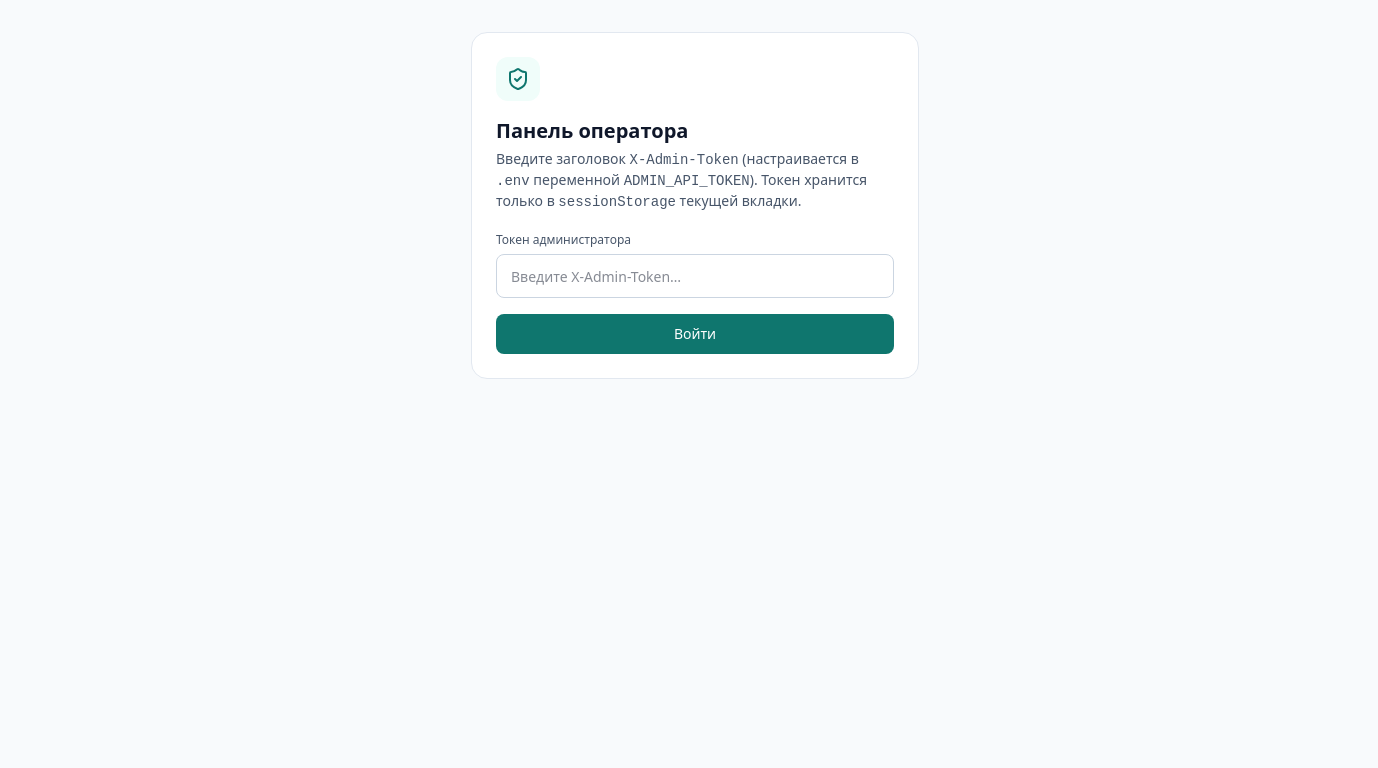
Scenario: AdminPage › loads stats and unmatched queue, resolves item, and handles 409 scrape lock
In the password field labelled "Токен администратора": (695, 276) [496,254,894,298], type "valid-token"
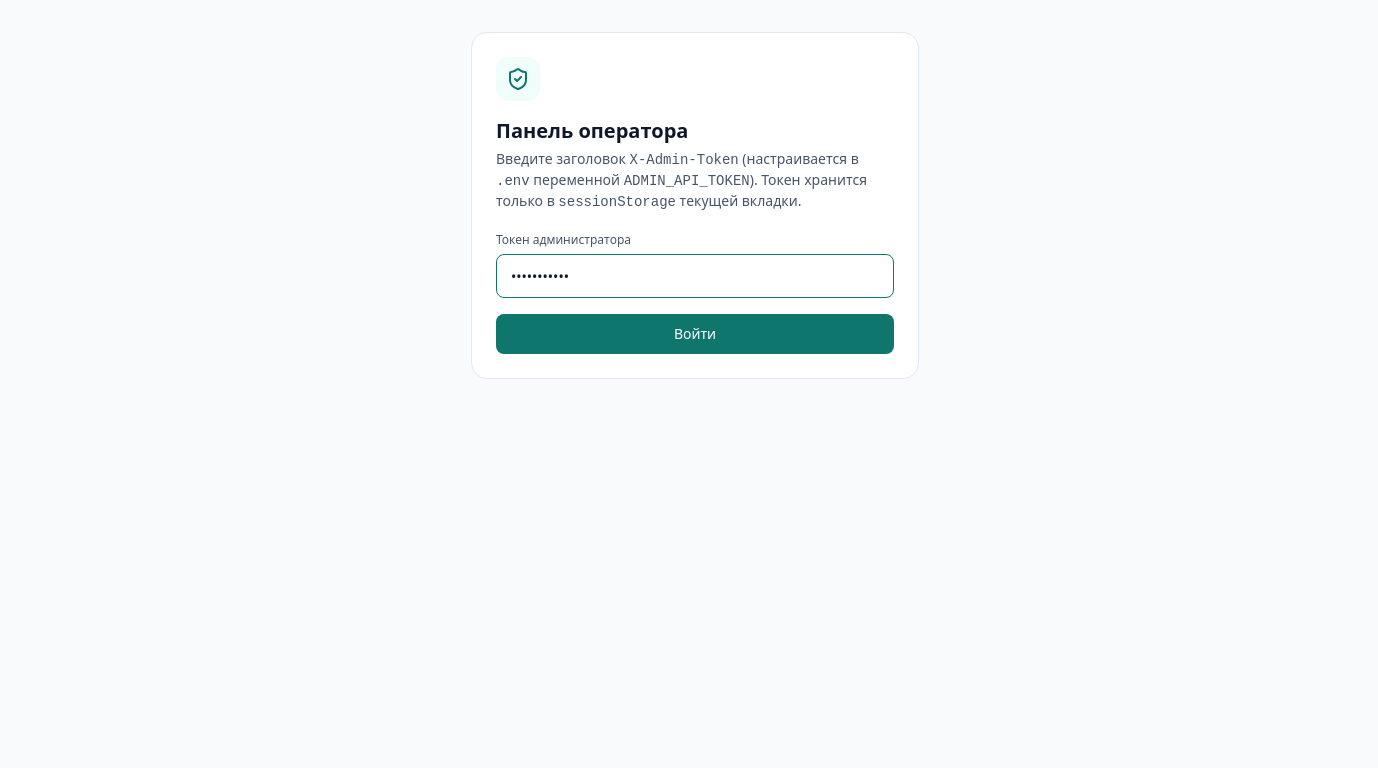
Click the button "Войти": (695, 334) [496,314,894,354]
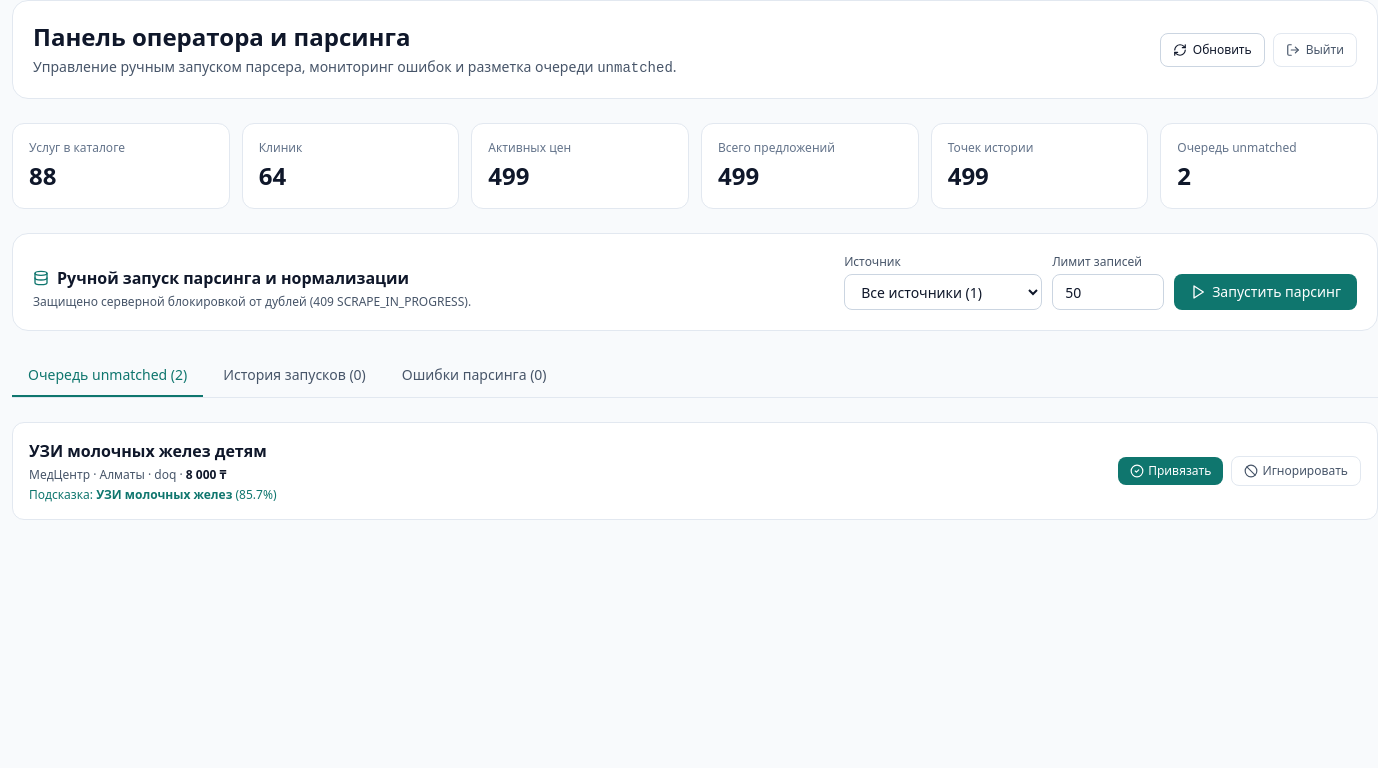
Check: the text "УЗИ молочных желез детям" is shown, box [29,439,276,463]
Check: the text "88" is shown, box [29,159,56,192]
Check: the text "499" is shown 3 times, box [488,159,530,192]; [718,159,759,192]; [948,159,989,192]
// 1-click resolve to suggested canonical service
Click the button "Привязать": (1171, 471) [1118,457,1223,485]
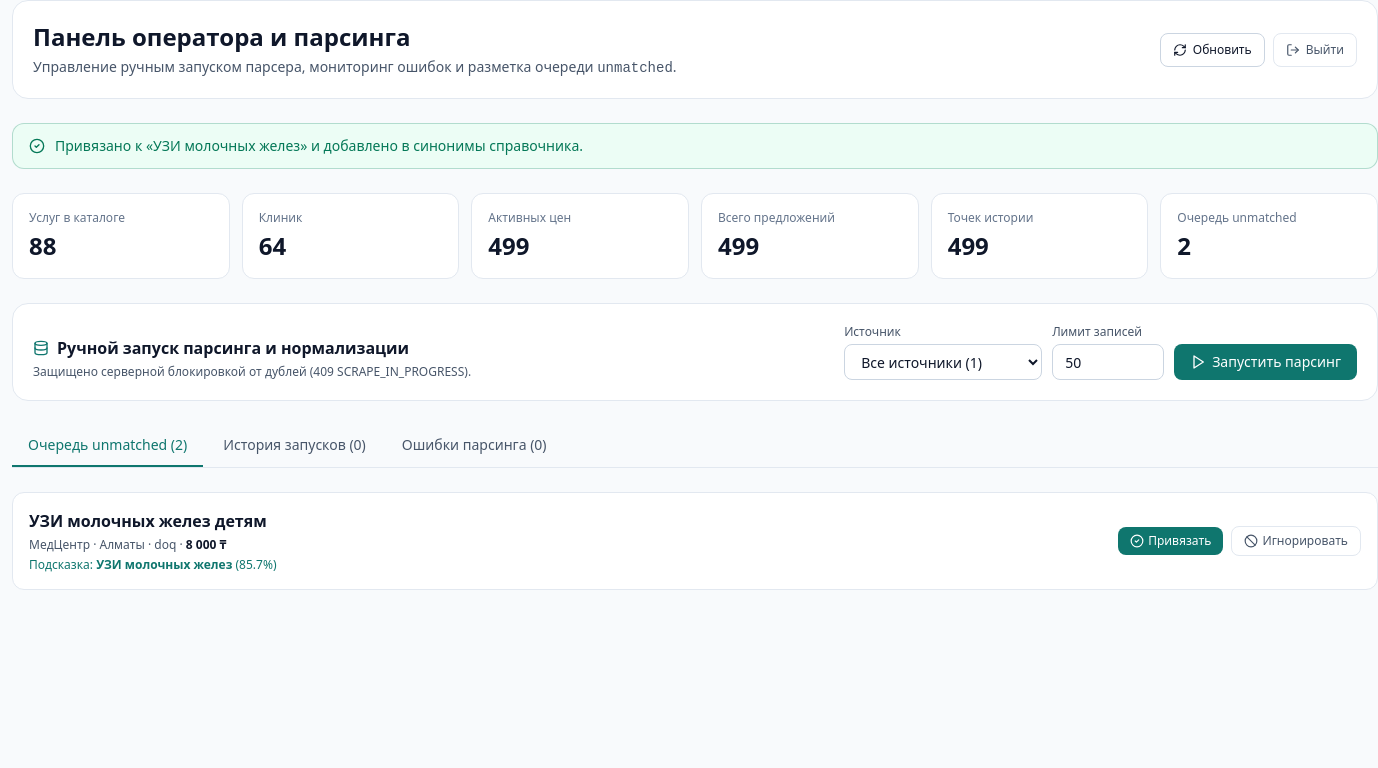
Click the button "Запустить парсинг": (1266, 362) [1174,344,1357,380]
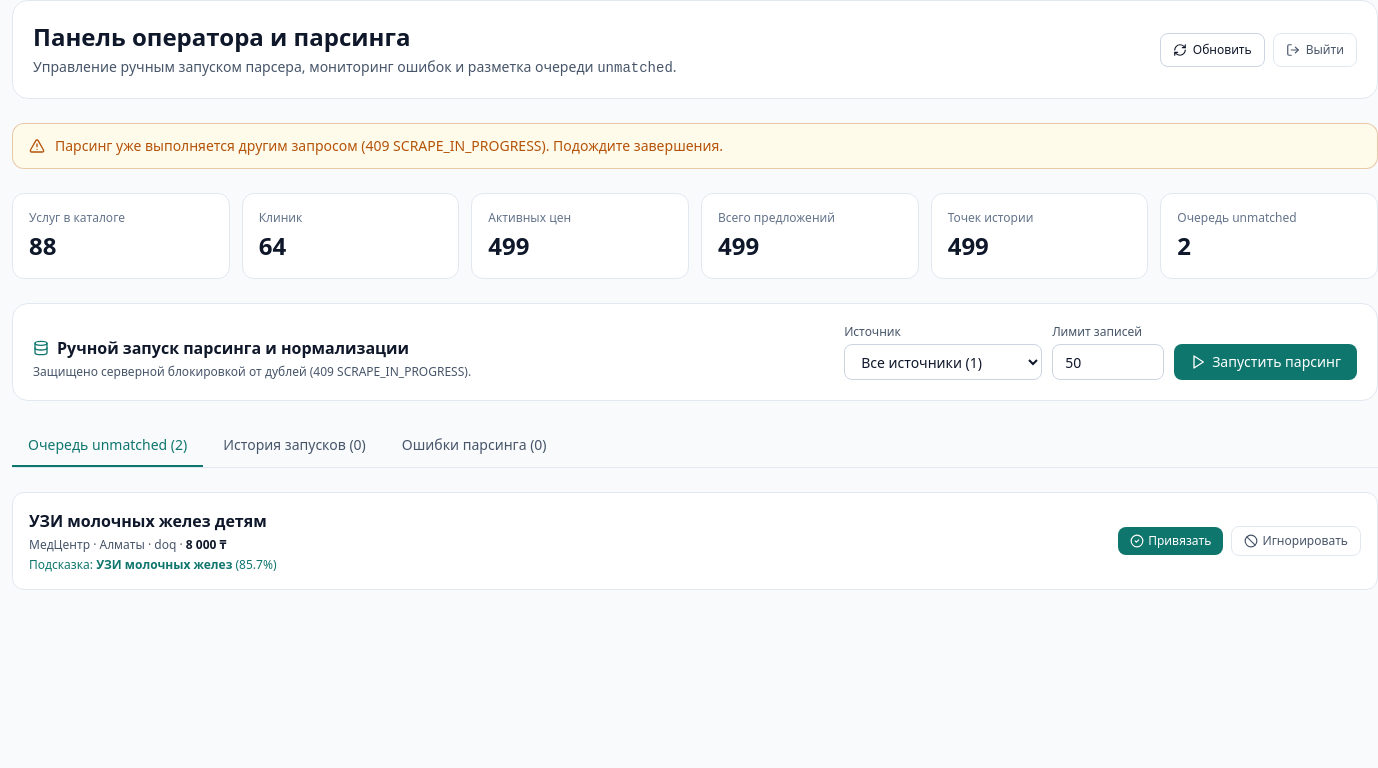
Check: the text "Парсинг уже выполняется" is shown, box [55,136,723,155]
